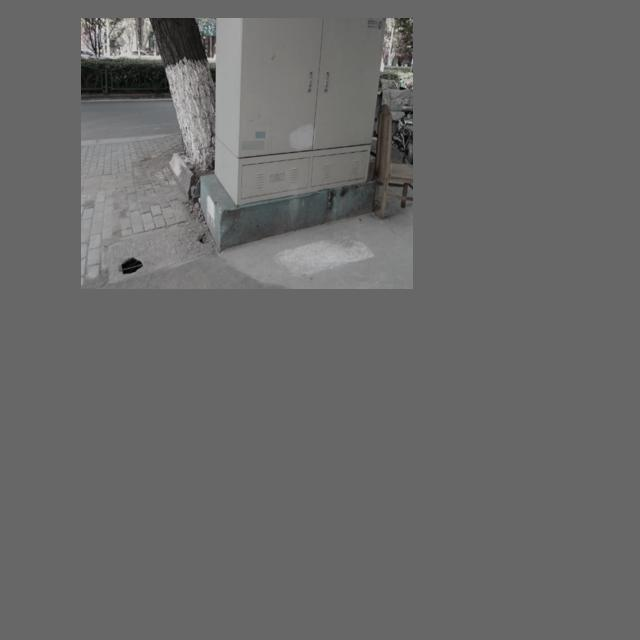broke: (108, 215, 211, 274)
